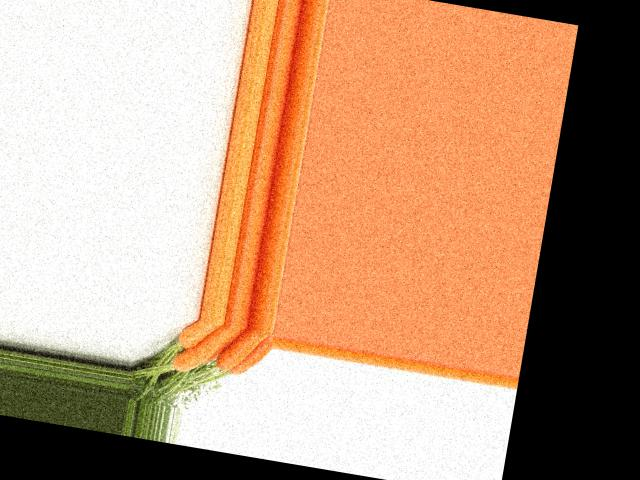carrot: (176, 316, 221, 355)
